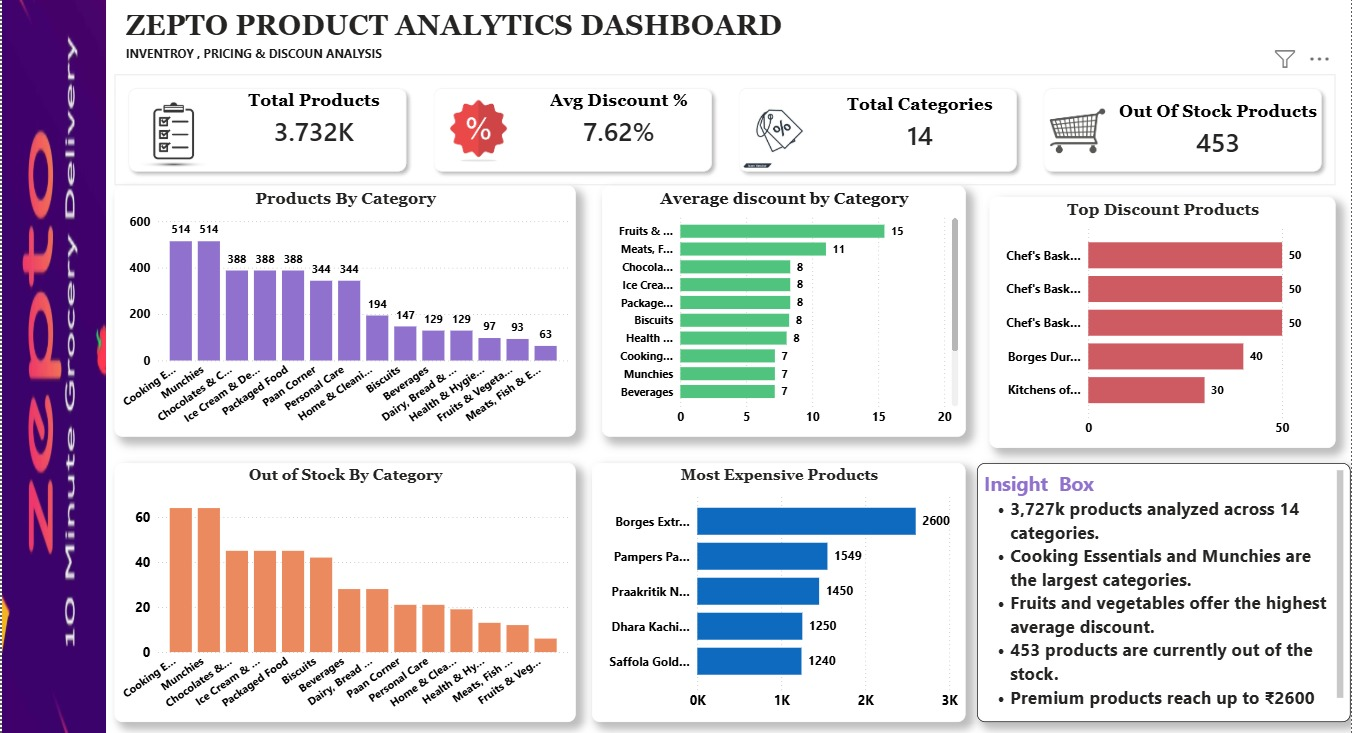

The dashboard page shown, as its layout file describes it:
{"tool":"powerbi","page":{"name":"Page 1","canvas":[1650,900],"ordinal":0},"visuals":[{"type":"shape","title":"ZEPTO PRODUCT ANALYTICS DASHBOARD","box":[151.3,13.8,834.6,79.5],"z":0},{"type":"columnChart","title":"Products By Category","fields":{"Category":["Sheet1.Category"],"Y":["CountNonNull(Sheet1.name)"]},"box":[137.6,229.3,564,307.2],"z":1000},{"type":"columnChart","title":"Out of Stock By Category","fields":{"Category":["Sheet1.Category"],"Y":["Sheet1.out of stock"]},"box":[137.6,568.6,564,316.4],"z":2000},{"type":"clusteredBarChart","title":"Most Expensive Products","fields":{"Category":["Sheet1.name"],"Y":["Max(Sheet1.mrp_rupees)"]},"box":[721.5,568.6,457,316.4],"z":3000},{"type":"clusteredBarChart","title":"Average discount by Category","fields":{"Y":["Avg(Sheet1.discountPercent)"],"Category":["Sheet1.Category"]},"box":[733.7,229.3,444.8,307.2],"z":4000},{"type":"shape","box":[0,0,126.9,999.7],"z":5000},{"type":"cardVisual","fields":{"Data":["Sheet1.TOTAL PRODUCTS","Sheet1.average discount","Sheet1.total categories","Sheet1.out of stock"]},"box":[137.6,93.2,1493.4,136],"z":6000},{"type":"clusteredBarChart","title":"Top Discount Products","fields":{"Category":["Sheet1.name"],"Y":["Max(Sheet1.discountPercent)"]},"box":[1207.5,243,423.4,307.2],"z":7000},{"type":"textbox","box":[1192.3,568.6,457,316.4],"z":8000},{"type":"image","box":[0,0,126.9,900.3],"z":9000}]}

Visuals, with their boxes in screenshot pixels (x1, y1, x2, y2), scaled from the page's 1650x900 canvas onto the 1352x733 screenshot:
"ZEPTO PRODUCT ANALYTICS DASHBOARD" shape: (124,11,808,76)
"Products By Category" columnChart: (113,187,575,437)
"Out of Stock By Category" columnChart: (113,463,575,721)
"Most Expensive Products" clusteredBarChart: (591,463,966,721)
"Average discount by Category" clusteredBarChart: (601,187,966,437)
shape: (0,0,104,732)
cardVisual - Sheet1.TOTAL PRODUCTS x Sheet1.average discount: (113,76,1336,187)
"Top Discount Products" clusteredBarChart: (989,198,1336,448)
textbox: (977,463,1351,721)
image: (0,0,104,732)
